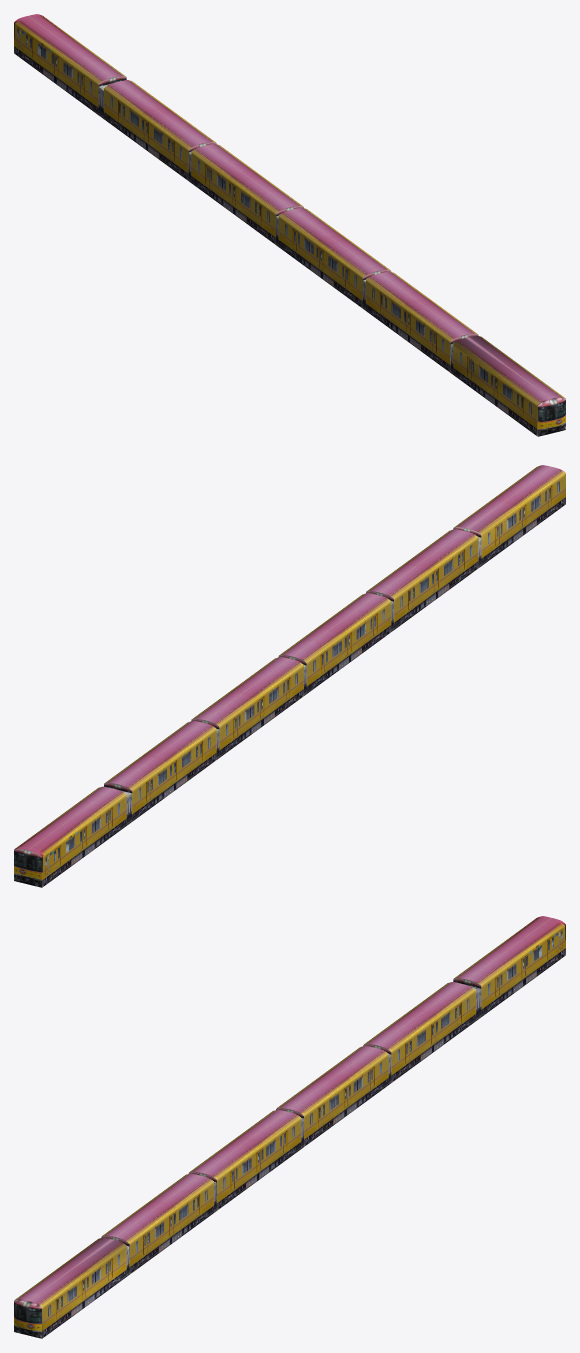
File: train_ginza.glb
The picture shows the model from 3 angles, top to bottom: view 1: azimuth 30°, elevation 25°; view 2: azimuth 150°, elevation 25°; view 3: azimuth 330°, elevation 25°; orthographic projection.
Visible parts, largest first — view 1: body; view 2: body; view 3: body.
Part boxes in pixels (x1,y1,x2,y2): body: [14, 14, 565, 436]; body: [14, 465, 565, 887]; body: [14, 916, 565, 1338].
Bounding box in the file's own units: 2.96 × 3.43 × 96.
4 materials, 4 textured.
